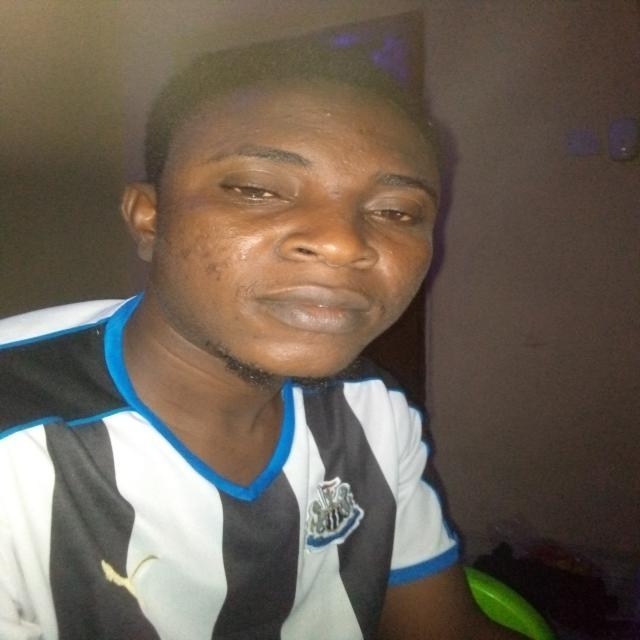Acne: (192, 259, 223, 284), (323, 108, 351, 130)
